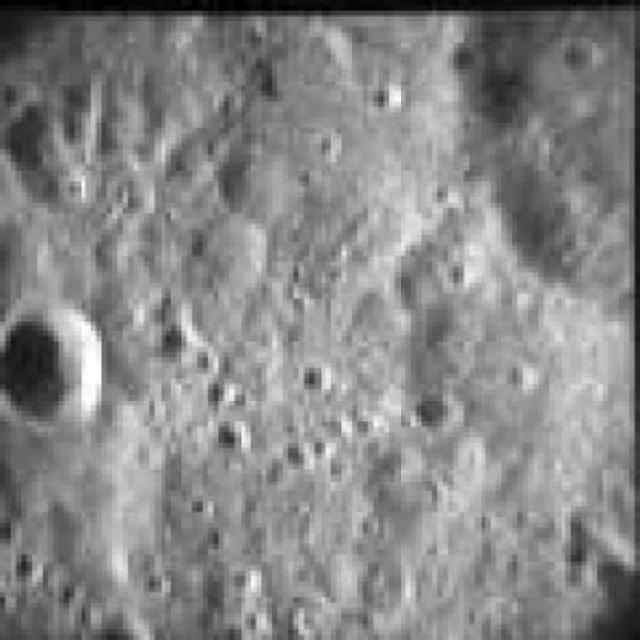crater: (0, 297, 103, 425)
